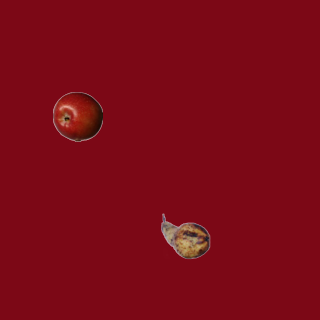Apple Braeburn: (52, 91, 102, 141)
Pear Abate: (160, 211, 210, 261)
